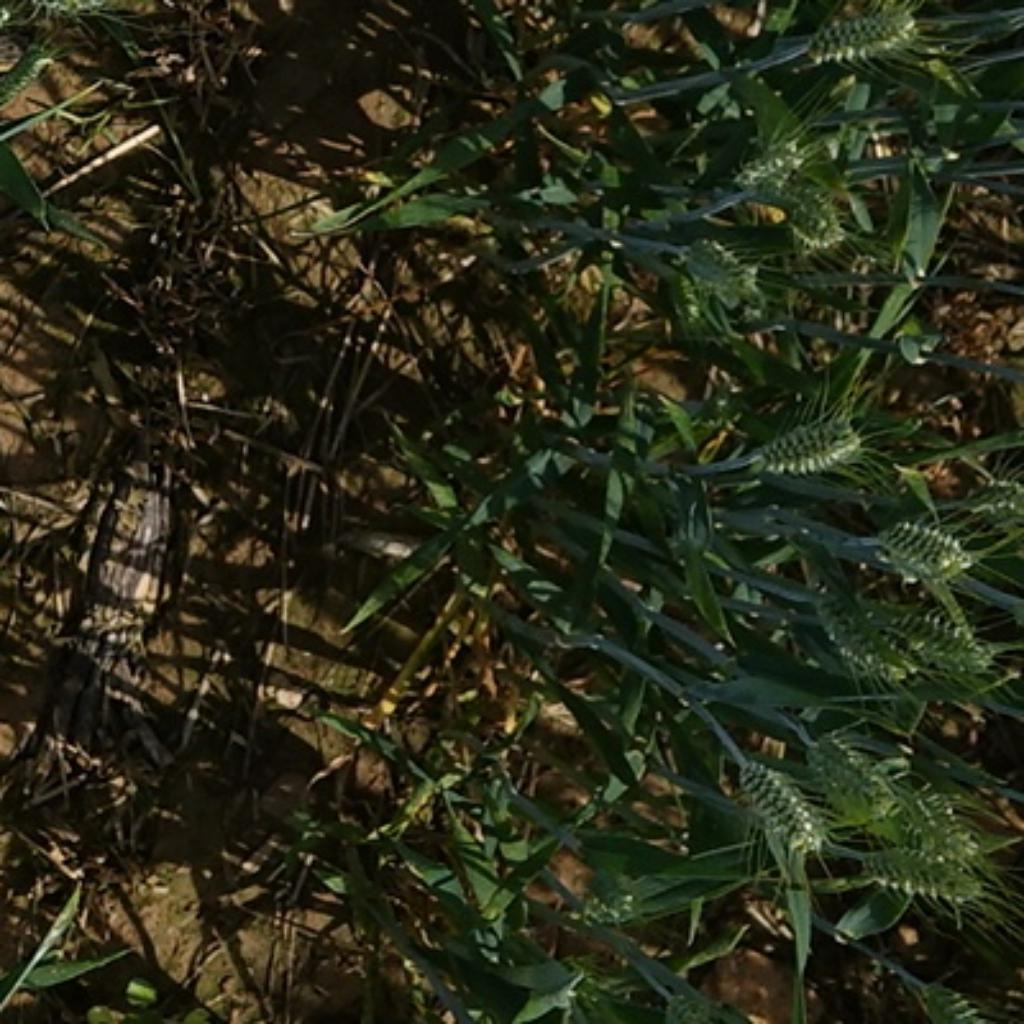0-0: (798, 583, 924, 691), (727, 747, 826, 857), (880, 591, 995, 668), (801, 0, 931, 66), (870, 506, 975, 583), (813, 738, 905, 825), (865, 839, 983, 906), (673, 227, 760, 309), (727, 125, 816, 202), (754, 415, 863, 477), (925, 469, 1024, 537), (558, 872, 658, 938), (905, 792, 987, 872), (775, 174, 852, 256), (0, 47, 68, 121), (658, 990, 760, 1024), (922, 984, 1000, 1024)
